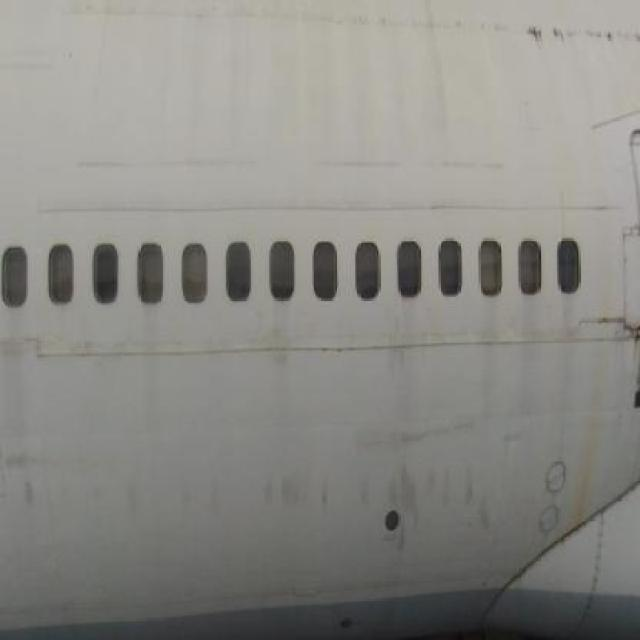Rust: (576, 349, 601, 540)
Scartch: (503, 20, 640, 58), (580, 311, 640, 349)
